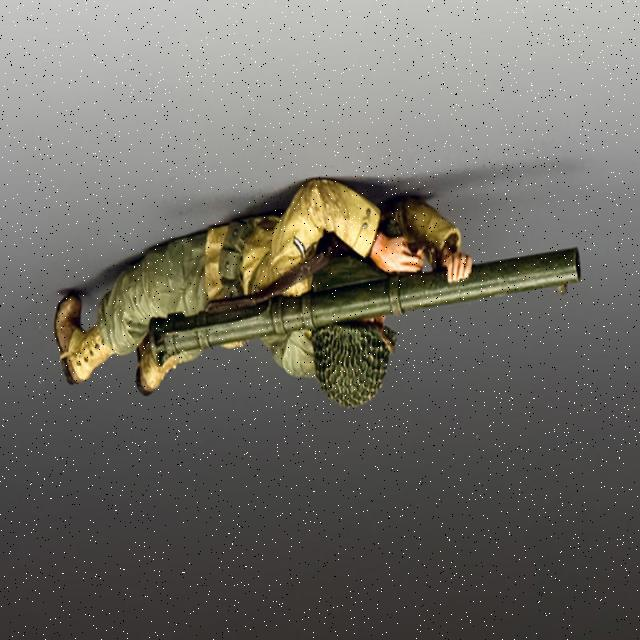bazooka: (147, 245, 590, 369)
